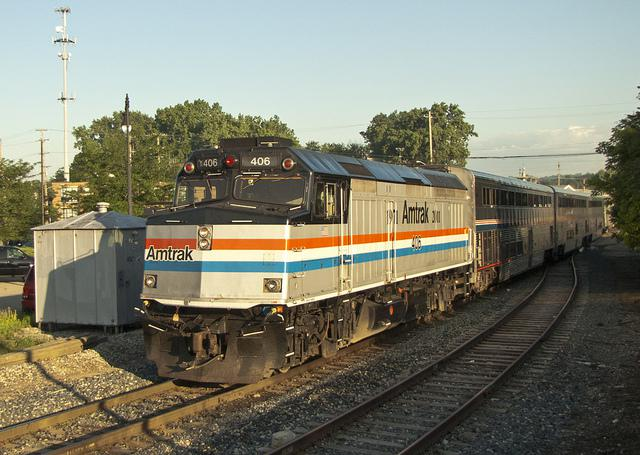Train: (139, 129, 615, 385)
